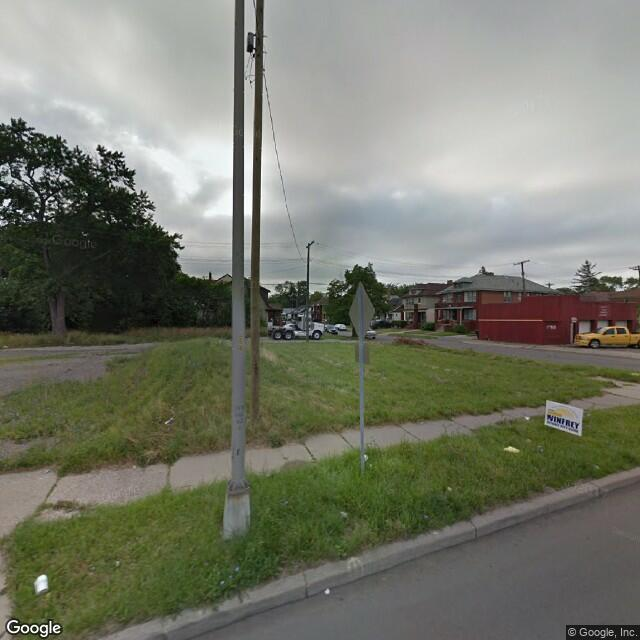litter: (501, 441, 522, 454), (34, 573, 47, 594), (522, 413, 532, 419), (445, 484, 453, 491), (164, 415, 172, 422), (340, 510, 347, 516), (324, 587, 330, 593), (365, 451, 368, 463)
